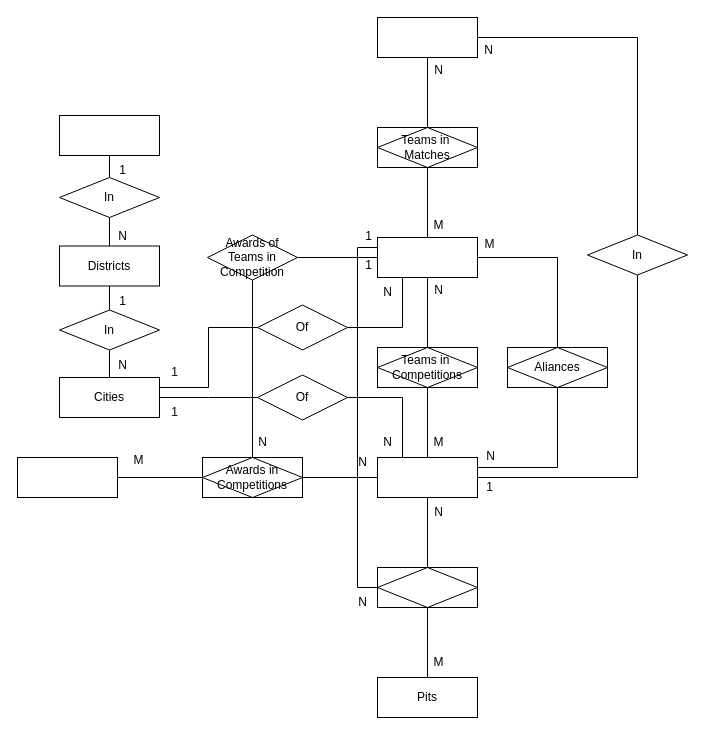
This 705x735 diagram has some shape labels left out. The centre of each missing label's shape, as x and y in pixels:
"Awards" belongs at point (67, 477).
"Competitions" belongs at point (427, 477).
"Countries" belongs at point (109, 135).
"Matches" belongs at point (427, 37).
"Pits in Competitions" belongs at point (427, 587).
"Teams" belongs at point (427, 257).
